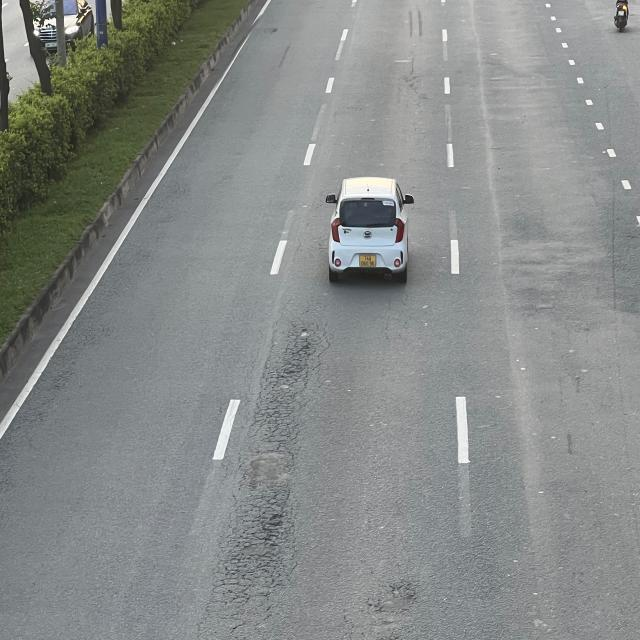car: (326, 177, 414, 284)
